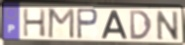A: (100, 9, 129, 40)
D: (128, 9, 154, 41)
H: (22, 7, 47, 38)
M: (47, 8, 76, 40)
N: (155, 10, 181, 42)
P: (75, 8, 100, 41)
